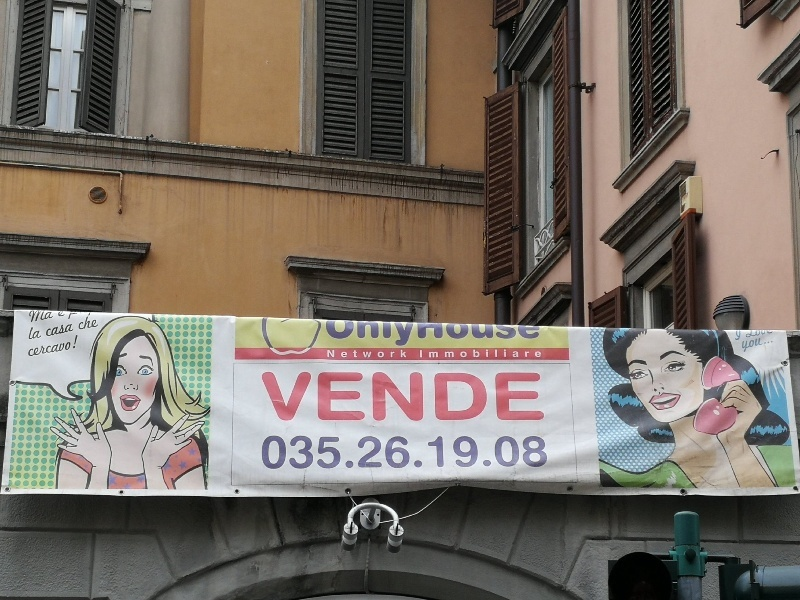text: (257, 369, 272, 425), (273, 369, 288, 425), (289, 369, 304, 425), (305, 369, 320, 425), (321, 369, 336, 425), (337, 369, 352, 425), (353, 369, 368, 425), (369, 369, 384, 425), (385, 369, 400, 425), (401, 369, 416, 425), (417, 369, 432, 425), (433, 369, 448, 425), (449, 369, 464, 425), (465, 369, 480, 425), (481, 369, 496, 425), (497, 369, 512, 425), (513, 369, 528, 425), (529, 369, 544, 425), (273, 433, 288, 474), (289, 433, 304, 474), (305, 433, 320, 474), (321, 433, 336, 474), (337, 433, 352, 474), (353, 433, 368, 474), (369, 433, 384, 474), (385, 433, 400, 474), (401, 433, 416, 474), (417, 433, 432, 474), (433, 433, 448, 474), (449, 433, 464, 474), (465, 433, 480, 474), (481, 433, 496, 474), (497, 433, 512, 474), (513, 433, 528, 474), (529, 433, 544, 474), (260, 433, 272, 474), (337, 321, 352, 348), (353, 321, 368, 348), (369, 321, 384, 348), (385, 321, 400, 348), (401, 321, 416, 348), (417, 321, 432, 348), (433, 321, 448, 348), (449, 321, 464, 348), (465, 321, 480, 348), (481, 321, 496, 348), (497, 321, 512, 348), (513, 321, 528, 348), (33, 335, 48, 360), (49, 335, 64, 360), (323, 321, 336, 348), (529, 321, 542, 348), (65, 335, 79, 360), (753, 336, 768, 354), (81, 315, 96, 332), (545, 433, 551, 474), (49, 323, 64, 338), (741, 336, 752, 354), (433, 348, 448, 361), (449, 348, 464, 361), (465, 348, 480, 361), (481, 348, 496, 361), (497, 348, 512, 361), (513, 348, 528, 361), (529, 348, 544, 361), (33, 311, 48, 324), (418, 348, 432, 361), (337, 349, 352, 361), (353, 349, 368, 361), (369, 349, 384, 361), (385, 349, 400, 361), (753, 330, 768, 341), (65, 323, 75, 338), (26, 335, 32, 360), (33, 326, 42, 342), (326, 349, 336, 361), (81, 312, 92, 321), (769, 336, 774, 354), (70, 312, 80, 321), (401, 349, 408, 361), (76, 315, 80, 332), (737, 331, 743, 342), (49, 311, 54, 324), (28, 326, 32, 342), (545, 369, 546, 425), (747, 330, 752, 341), (97, 315, 100, 332), (57, 312, 64, 319), (769, 330, 773, 341), (29, 311, 32, 324), (46, 323, 48, 338), (735, 331, 736, 342), (65, 312, 66, 319)
